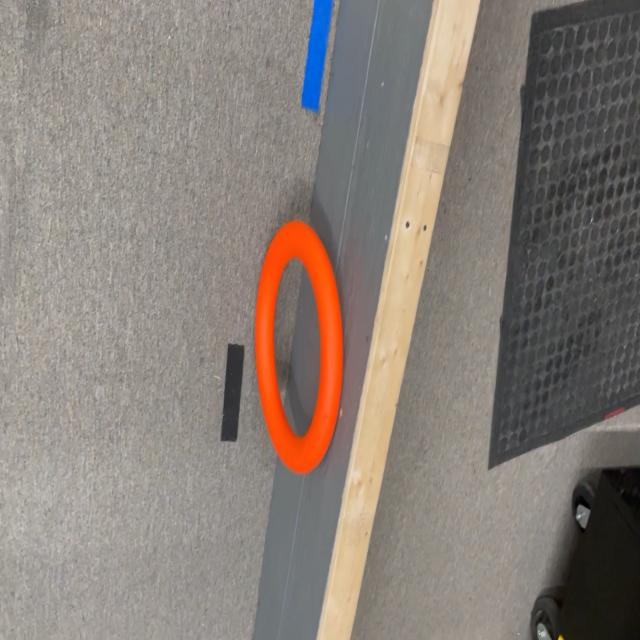note: (253, 220, 344, 472)
